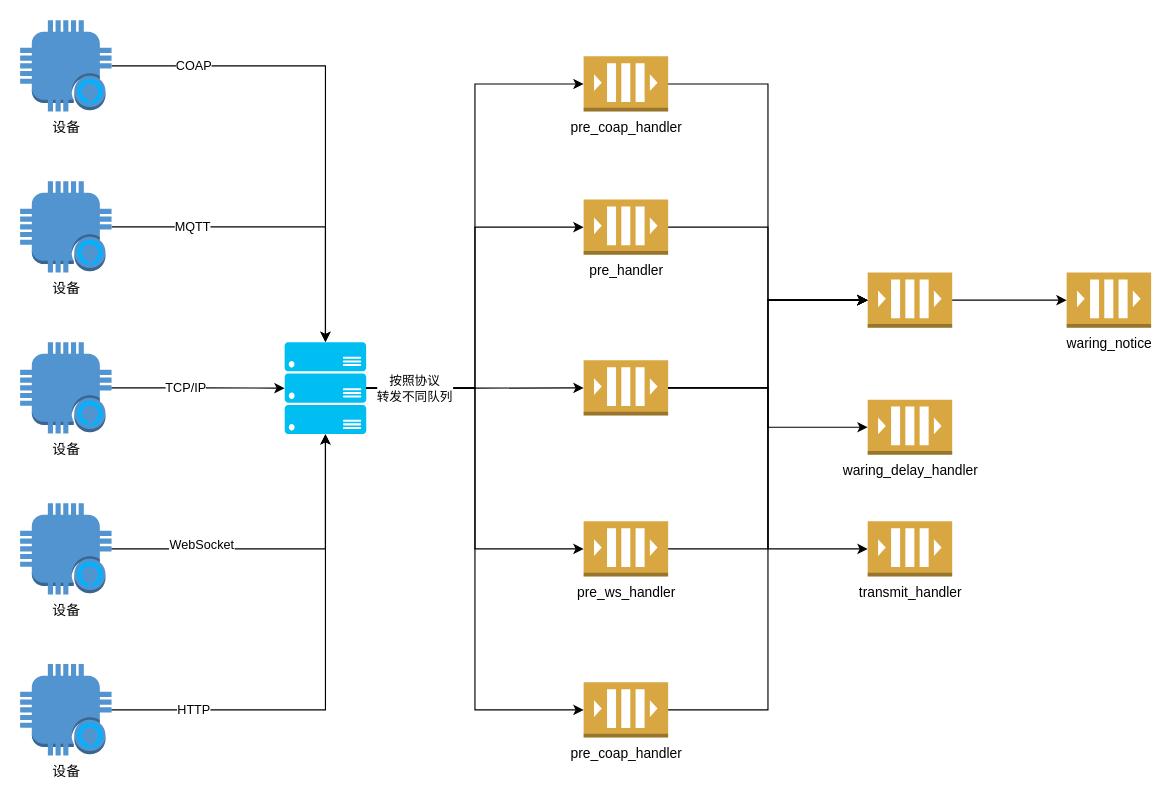
Some shapes in this 1172 by 799 pixel diagram are drawn without their labels. Here are the shapes that lost their labels. From the top down, the centre of each, then its label:
At pixel 909 299: "waring_handler".
At pixel 325 388: "数据接收服务".
At pixel 625 387: "pre_tcp_handler".
